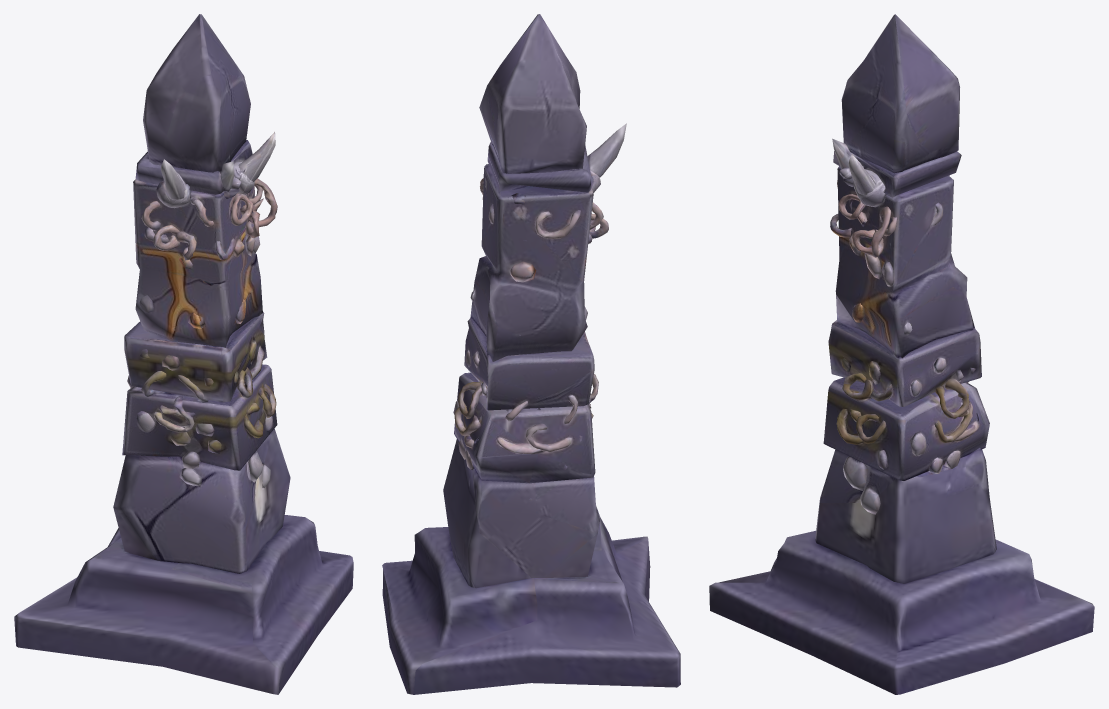
Rendered from ce_obelisco.glb.
3 renders of one model, left to right at view 1: azimuth 30°, elevation 25°; view 2: azimuth 150°, elevation 25°; view 3: azimuth 270°, elevation 25°, orthographic.
Visible parts, largest first — view 1: Mesh_0.003; view 2: Mesh_0.003; view 3: Mesh_0.003.
Part boxes in pixels (left/top/right/bottom): Mesh_0.003: left=14, top=14, right=353, bottom=694; Mesh_0.003: left=382, top=14, right=680, bottom=694; Mesh_0.003: left=709, top=14, right=1094, bottom=694.
Size of the model in its own units: 0.2778 by 0.5176 by 0.298.
Materials: 1 (1 with a texture image).
